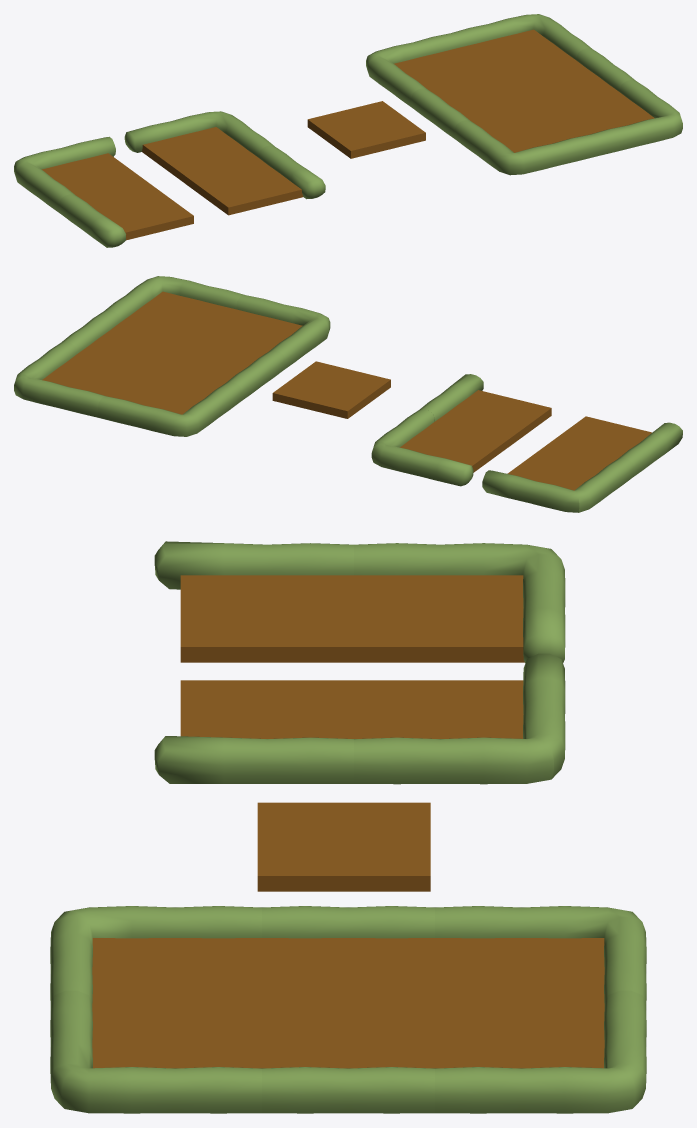
File: ladang.fbx
3 views of the same model, one above another, from view 1: azimuth 30°, elevation 25°; view 2: azimuth 150°, elevation 25°; view 3: azimuth 270°, elevation 25° (orthographic). The views are drawn at different scales.
Parts seen in each view (by area): view 1: ladang kanan jalan, ladang kiri bawah, ladang kiri jalan, ladang kanan bawah, ladang ujung kanan, ladang kiri atas, ladang kanan atas, ladang ujung kiri, ladang kiri tengah, ladang kanan tengah, ladang tengah; view 2: ladang kanan jalan, ladang kiri jalan, ladang kiri atas, ladang kanan atas, ladang kiri bawah, ladang kanan bawah, ladang ujung kanan, ladang ujung kiri, ladang kiri tengah, ladang kanan tengah, ladang tengah; view 3: ladang kiri jalan, ladang kanan jalan, ladang kanan atas, ladang kanan bawah, ladang ujung kiri, ladang kiri atas, ladang kiri bawah, ladang ujung kanan, ladang kanan tengah, ladang kiri tengah, ladang tengah.
Boxes of the visible parts, x1,y1,x2,y2 form: ladang kanan jalan: [124, 111, 274, 183]; ladang kiri bawah: [454, 110, 598, 175]; ladang kiri jalan: [14, 136, 150, 213]; ladang kanan bawah: [546, 80, 682, 155]; ladang ujung kanan: [185, 145, 325, 215]; ladang kiri atas: [366, 33, 502, 107]; ladang kanan atas: [452, 14, 591, 78]; ladang ujung kiri: [59, 184, 193, 247]; ladang kiri tengah: [411, 78, 545, 139]; ladang kanan tengah: [503, 48, 635, 109]; ladang tengah: [307, 101, 425, 158]; ladang kanan jalan: [371, 409, 508, 486]; ladang kiri jalan: [482, 448, 633, 512]; ladang kiri atas: [98, 372, 241, 436]; ladang kanan atas: [14, 342, 150, 417]; ladang kiri bawah: [194, 295, 330, 369]; ladang kanan bawah: [104, 276, 244, 340]; ladang ujung kanan: [419, 374, 551, 447]; ladang ujung kiri: [543, 416, 682, 477]; ladang kiri tengah: [151, 340, 285, 401]; ladang kanan tengah: [61, 310, 193, 371]; ladang tengah: [272, 361, 390, 418]; ladang kiri jalan: [354, 543, 565, 662]; ladang kanan jalan: [354, 653, 565, 784]; ladang kanan atas: [435, 990, 646, 1113]; ladang kanan bawah: [50, 990, 261, 1113]; ladang ujung kiri: [154, 541, 353, 662]; ladang kiri atas: [435, 906, 646, 1009]; ladang kiri bawah: [50, 906, 261, 1009]; ladang ujung kanan: [154, 680, 353, 783]; ladang kanan tengah: [262, 1009, 434, 1113]; ladang kiri tengah: [262, 906, 434, 1009]; ladang tengah: [257, 802, 430, 891].
Bounding box in the file's own units: 1481 × 46.19 × 689.
